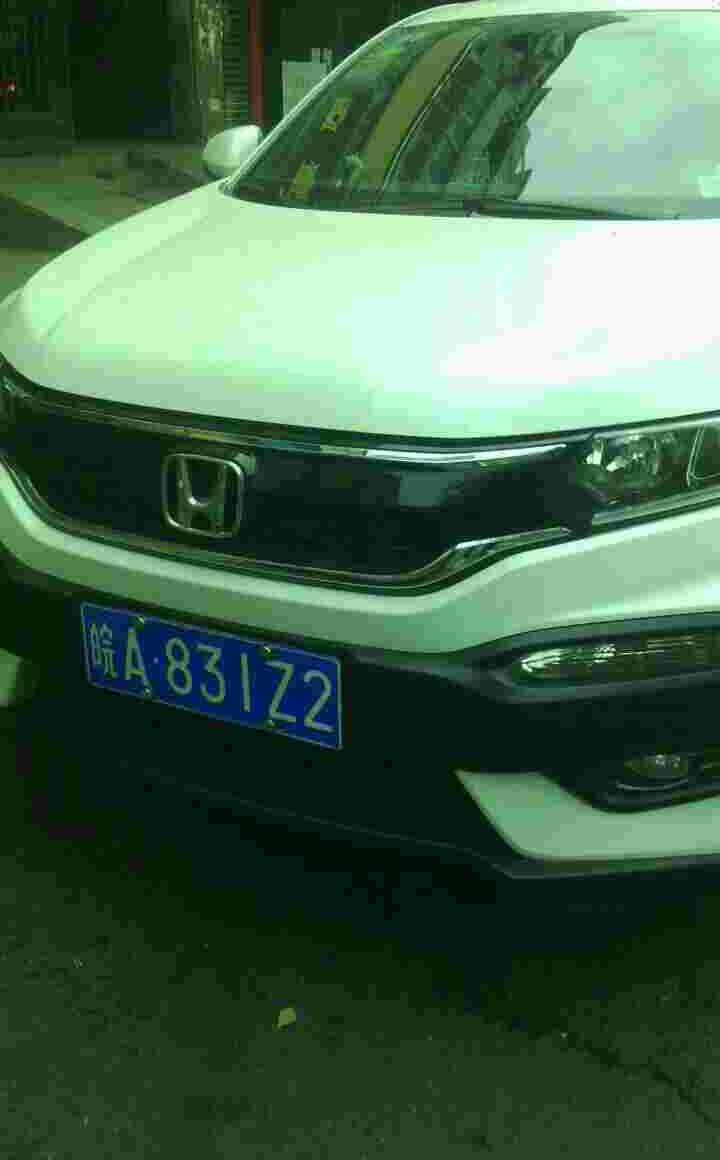license_plate: (59, 609, 343, 736)
